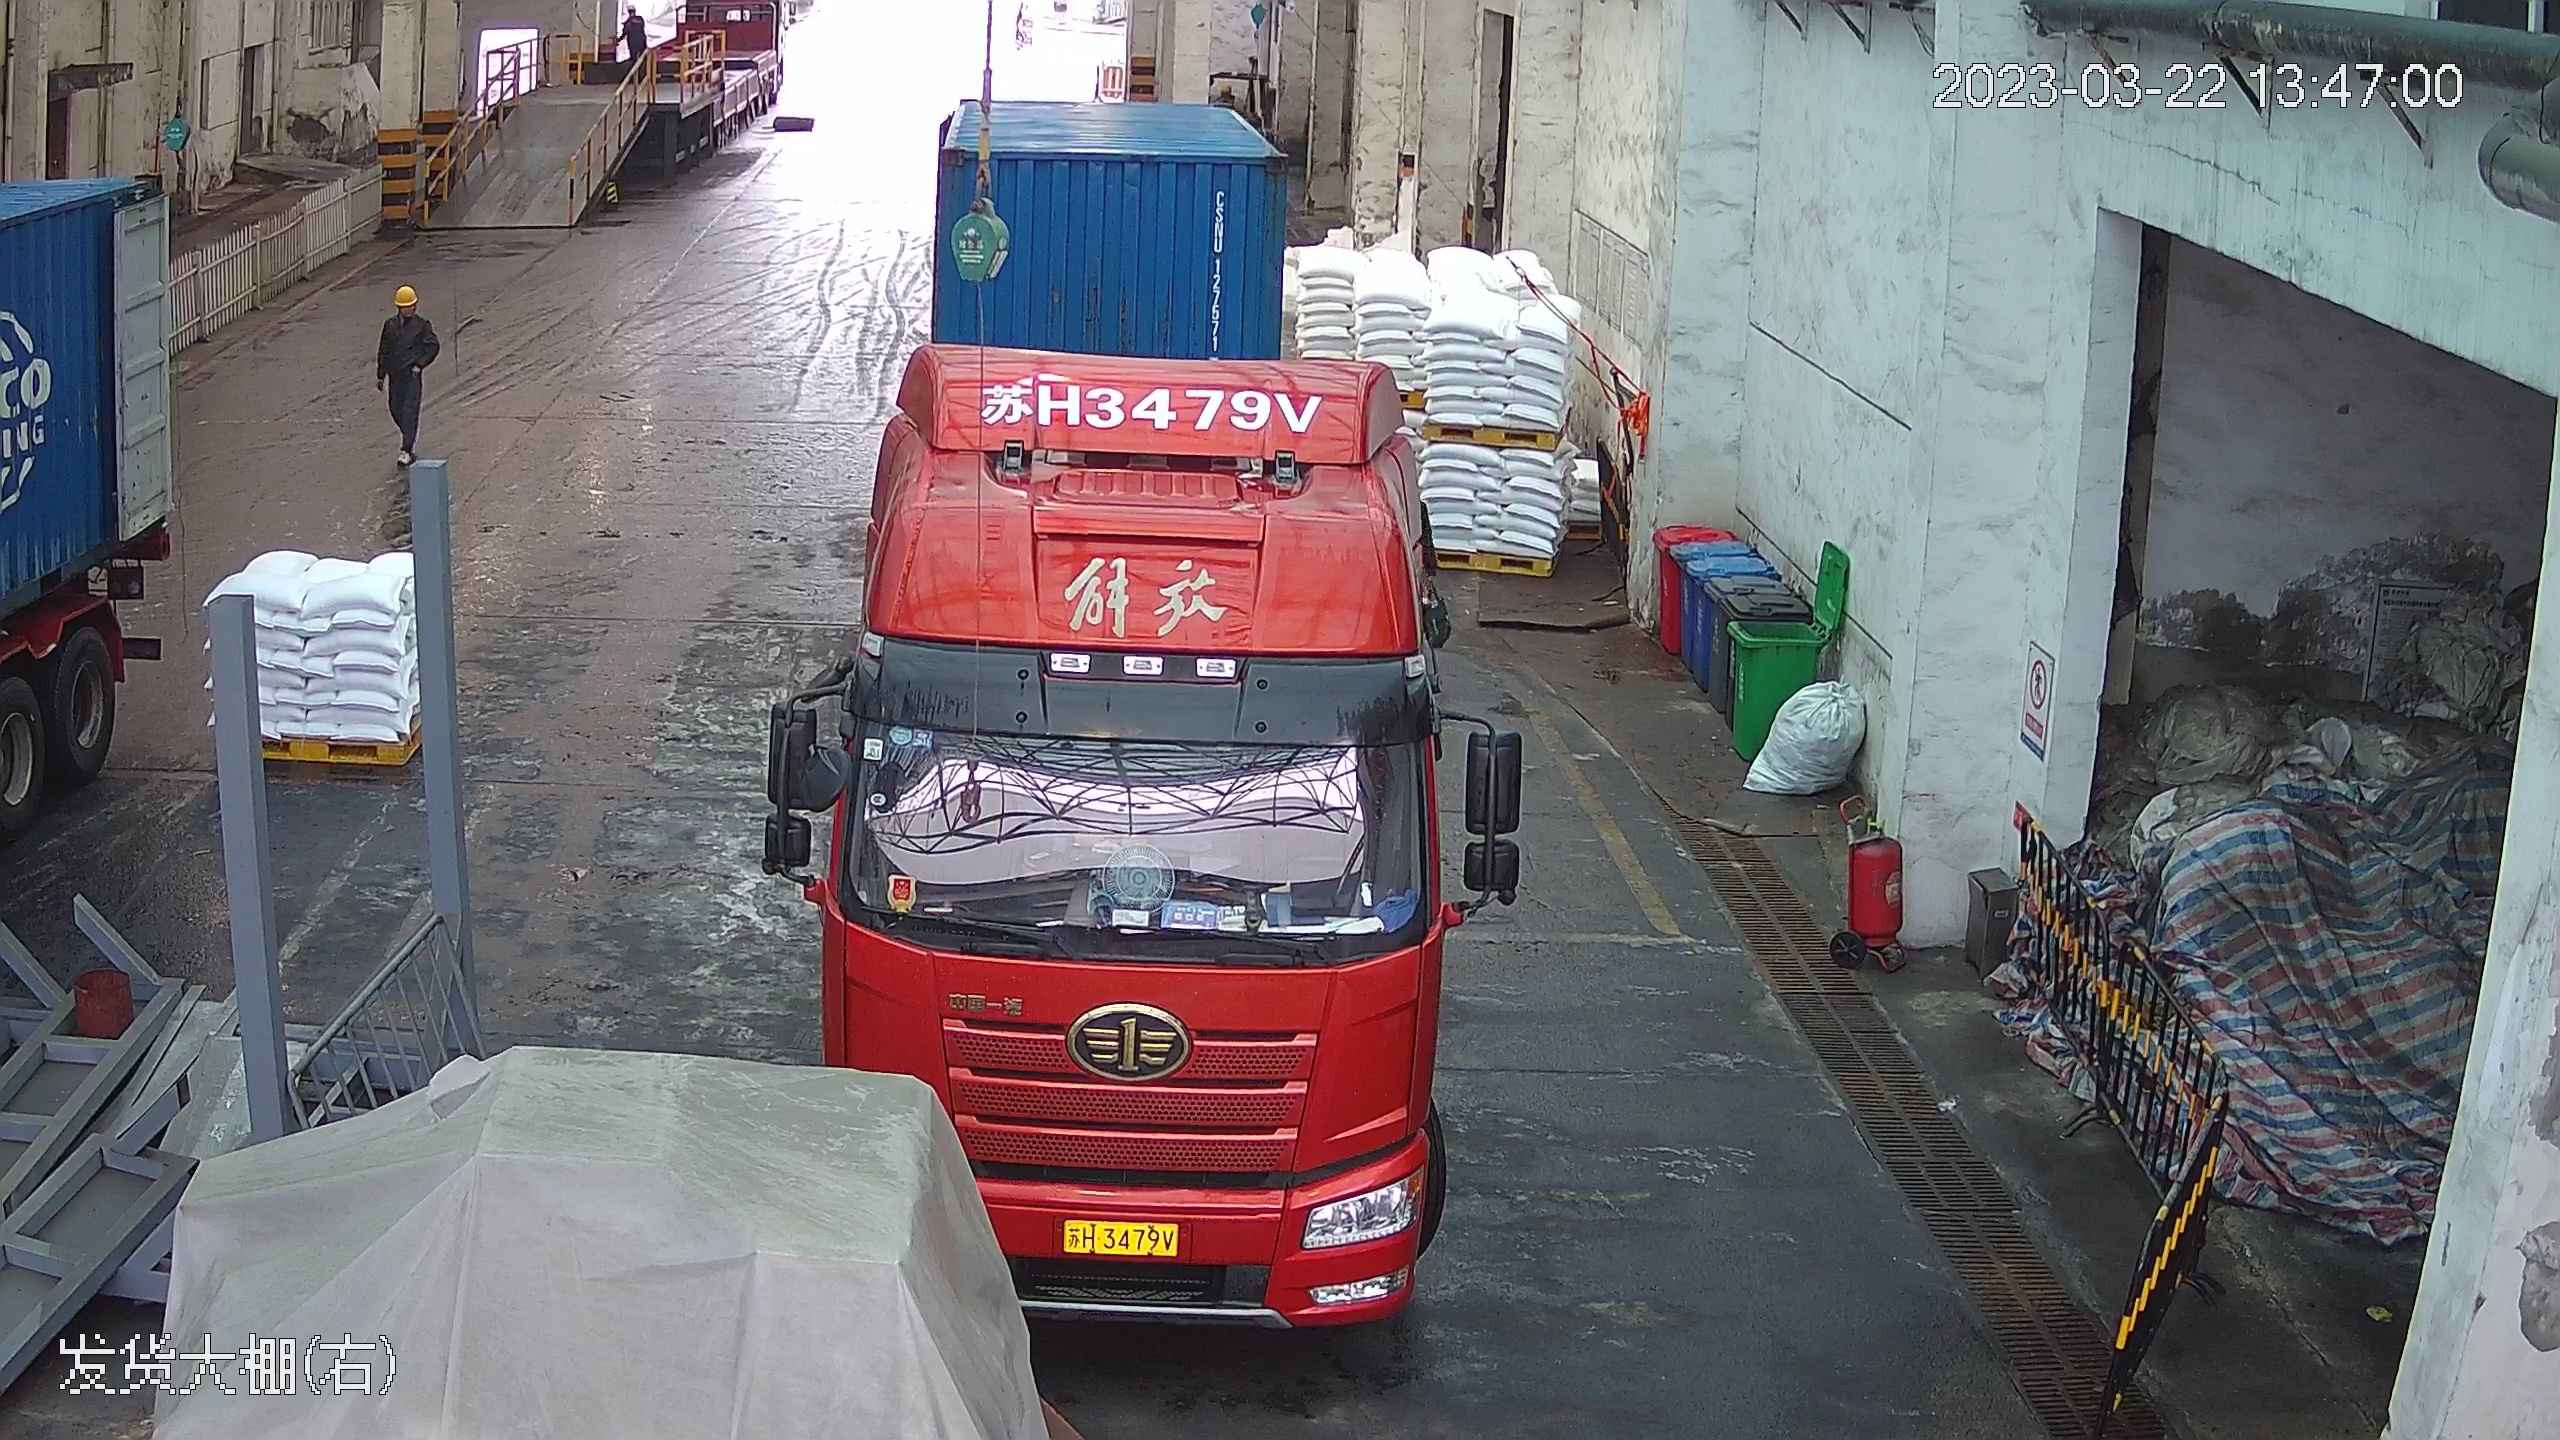head: (377, 281, 434, 338), (623, 3, 644, 31)
helmet: (382, 282, 432, 334), (390, 283, 419, 307), (625, 4, 636, 13)
people: (373, 283, 440, 465), (619, 3, 648, 61)
truck: (799, 40, 1476, 1305), (1, 77, 168, 975)
